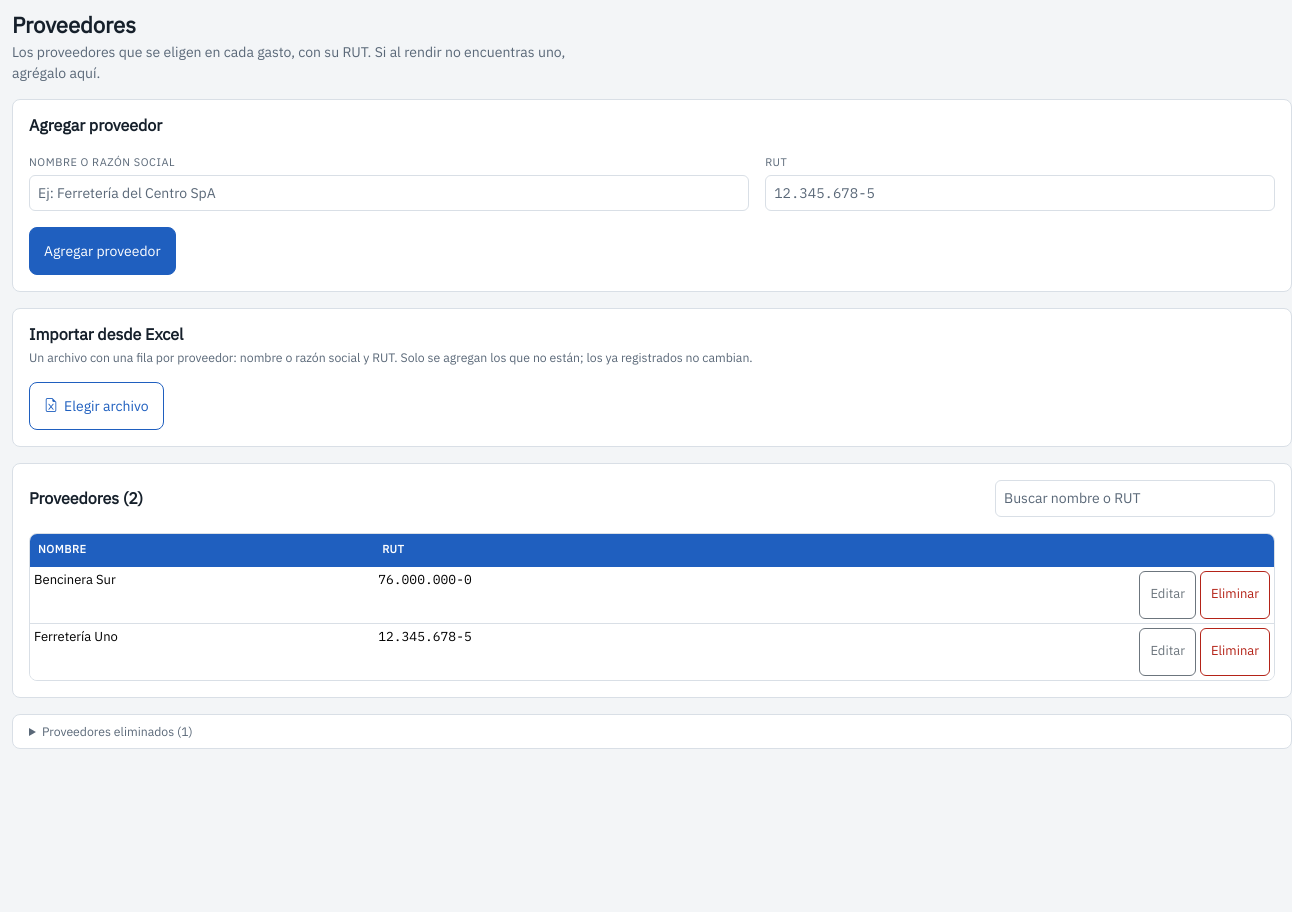
it: ProveedoresView: tesorería › no guarda una edición con el RUT de otro proveedor
Click the button with aria-label "Editar Ferretería Uno" at [1168, 652], box [1139, 628, 1196, 676]
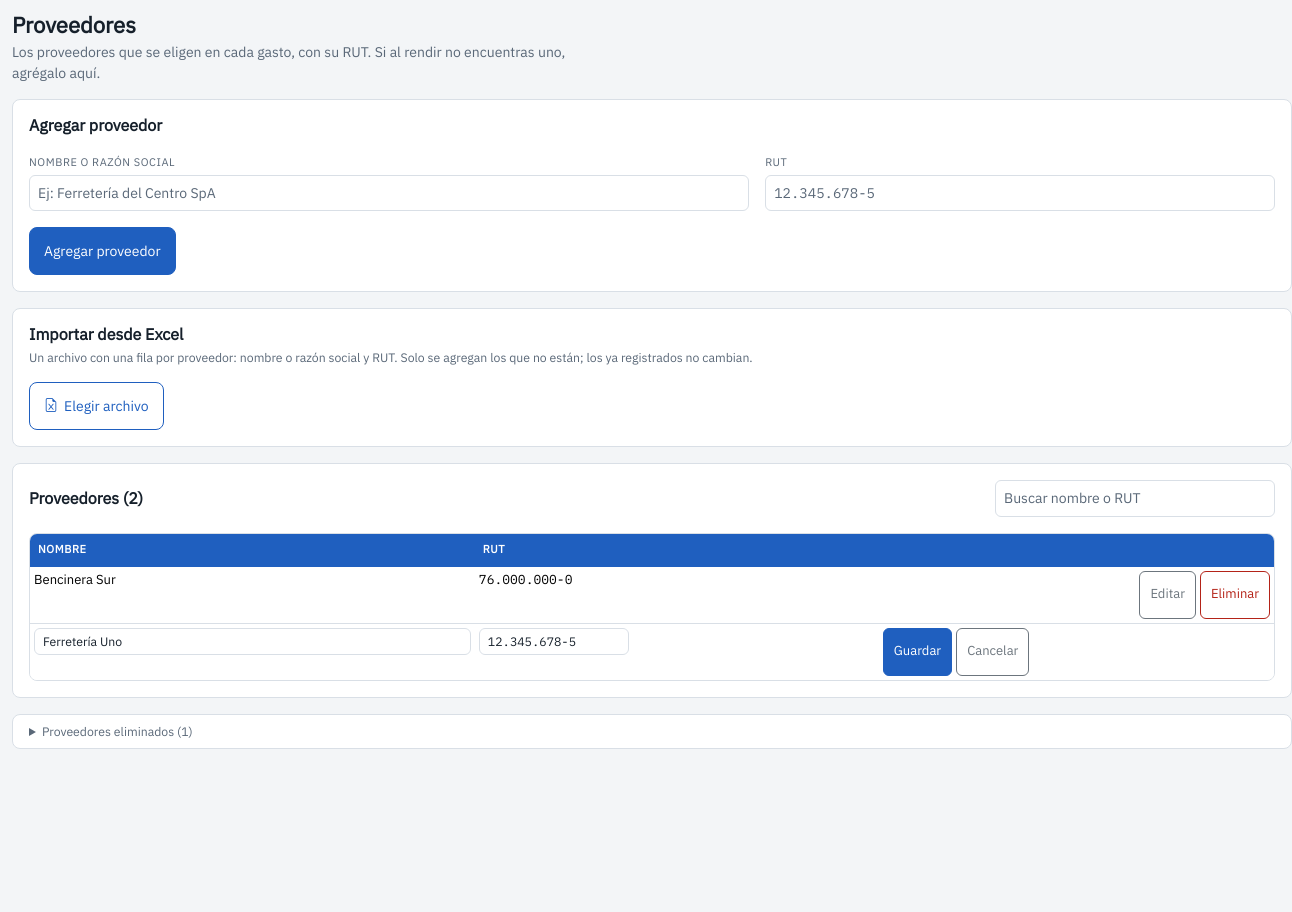
Replace the text in the field named "RUT de Ferretería Uno" with "76000000-0" at [554, 642], box [479, 628, 629, 655]
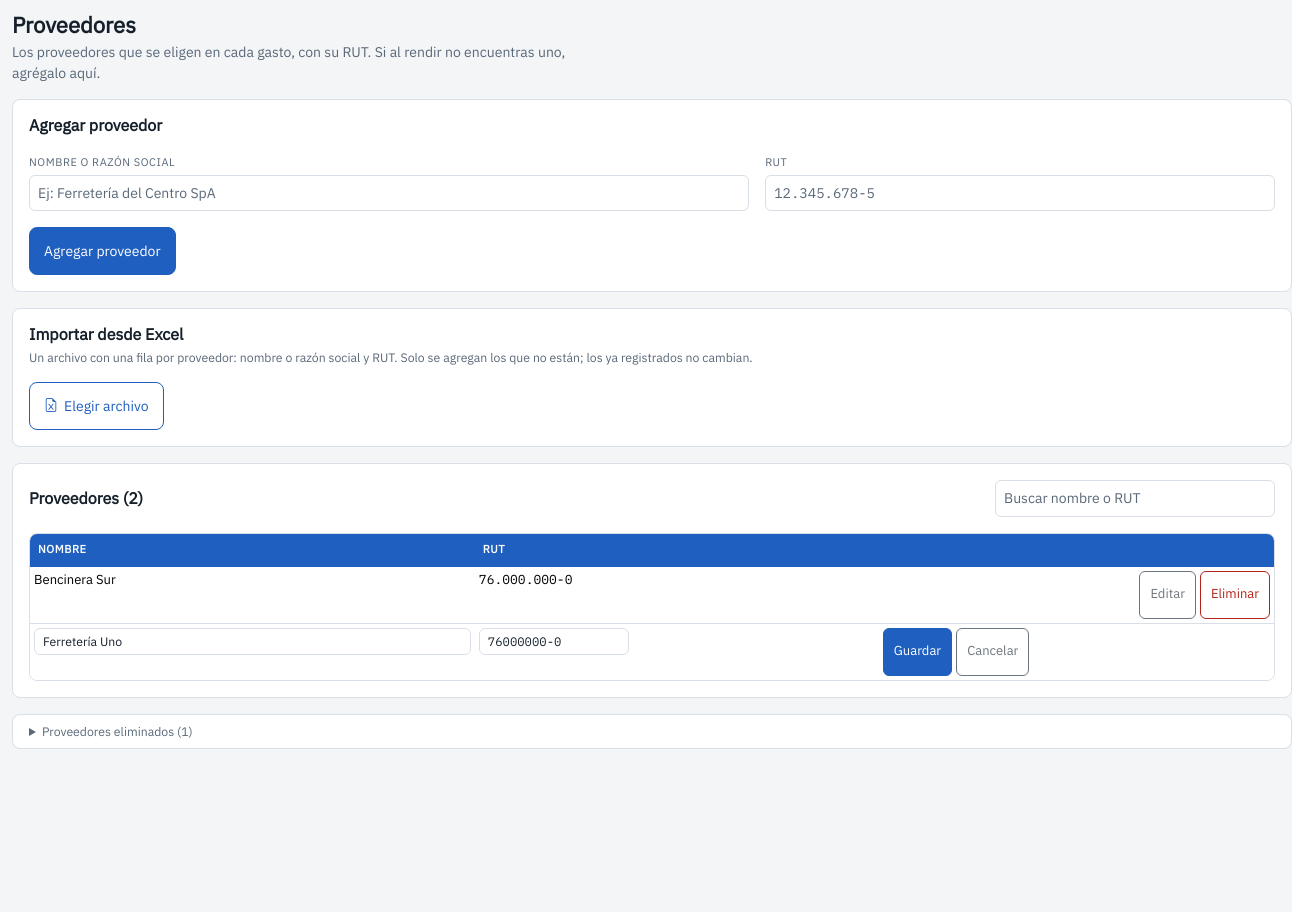
Click the button "Guardar" at [917, 652], box [883, 628, 952, 676]
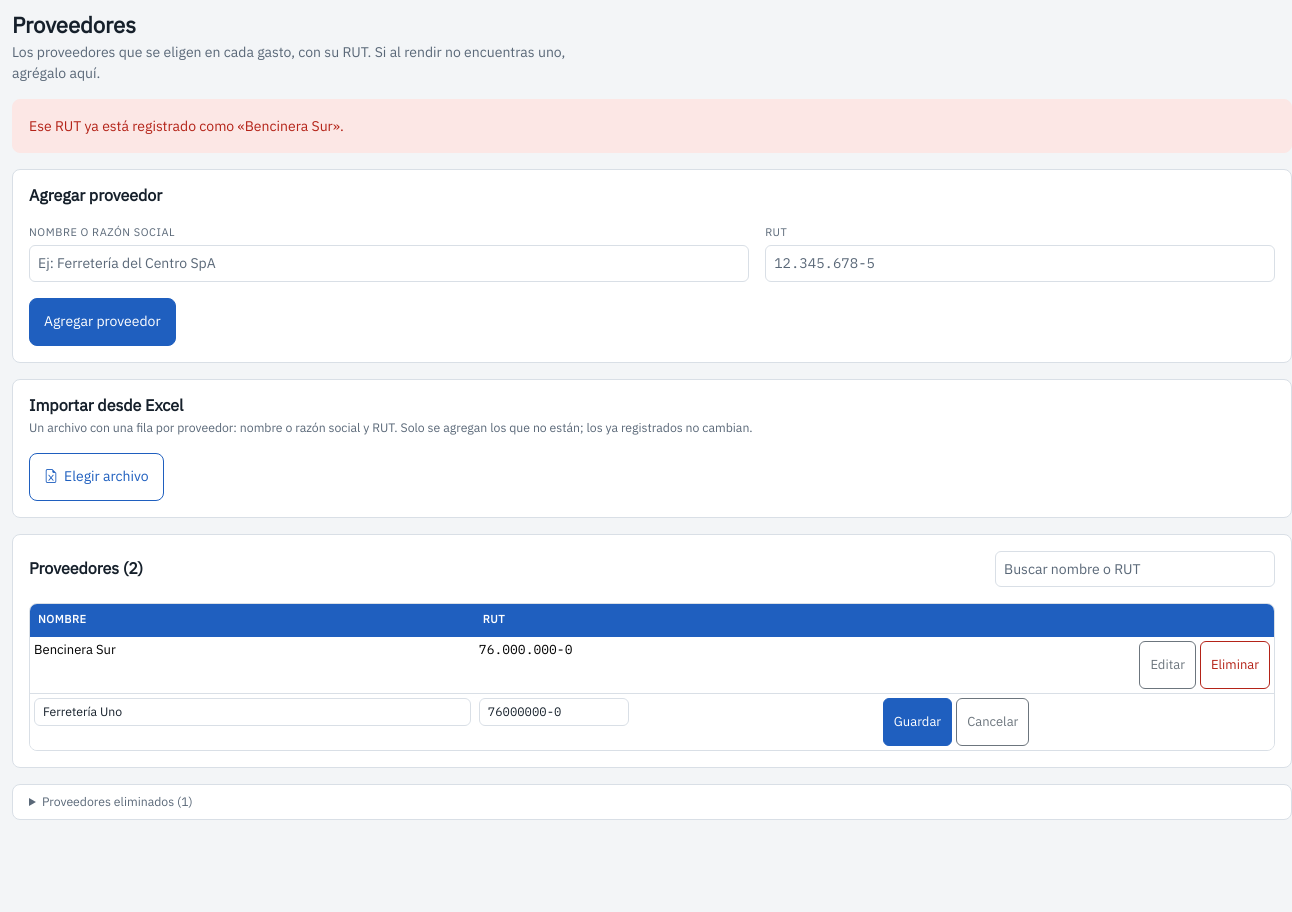
Result: the text "Ese RUT ya está registrado como «Bencinera Sur»." is shown at [12, 99, 1291, 153]
